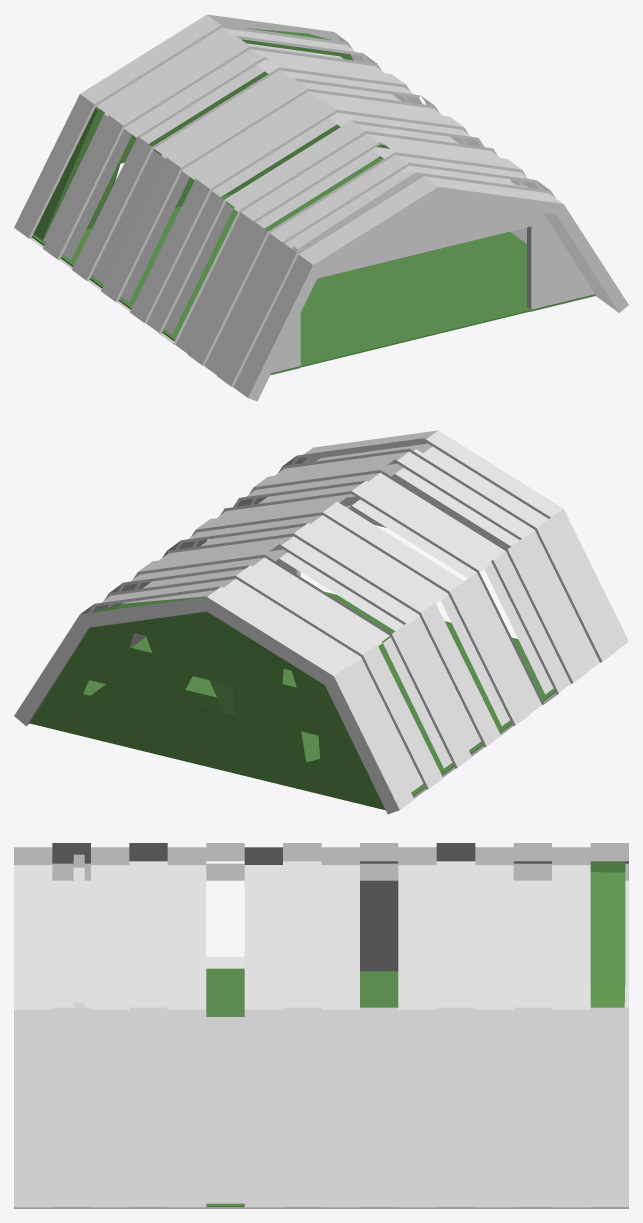
The model's file is angar 60%.fbx.
The picture shows the model from 3 angles, top to bottom: view 1: azimuth 30°, elevation 25°; view 2: azimuth 150°, elevation 25°; view 3: azimuth 270°, elevation 25°; orthographic projection. The views are drawn at different scales.
Visible parts, largest first — view 1: Cylinder, Plane.004, Plane.001, Plane; view 2: Cylinder, Plane, Plane.004, Plane.001; view 3: Cylinder, Plane, Plane.004, Plane.001.
Boxes of the visible parts, x1=… form: Cylinder: x1=14, y1=14, x2=628, y2=401; Plane.004: x1=32, y1=157, x2=595, y2=374; Plane.001: x1=270, y1=169, x2=595, y2=375; Plane: x1=33, y1=27, x2=389, y2=240; Cylinder: x1=14, y1=430, x2=628, y2=814; Plane: x1=29, y1=596, x2=385, y2=810; Plane.004: x1=83, y1=592, x2=555, y2=796; Plane.001: x1=270, y1=449, x2=534, y2=576; Cylinder: x1=14, y1=843, x2=628, y2=1208; Plane: x1=590, y1=861, x2=625, y2=1007; Plane.004: x1=206, y1=968, x2=398, y2=1206; Plane.001: x1=73, y1=854, x2=84, y2=1007.
Size of the model in its own units: 385 by 165 by 400.
